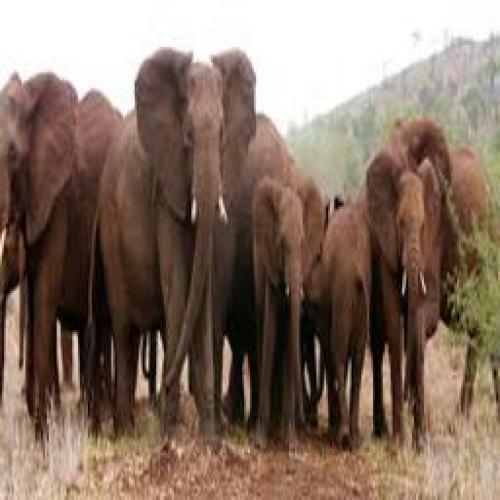african_elephant-endangered: (92, 32, 266, 456), (226, 89, 329, 471), (342, 124, 448, 464), (0, 59, 82, 451)
